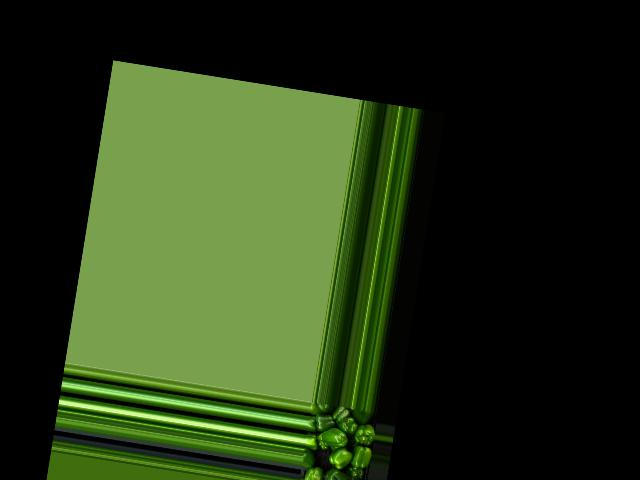bell_pepper: (348, 407, 369, 424)
